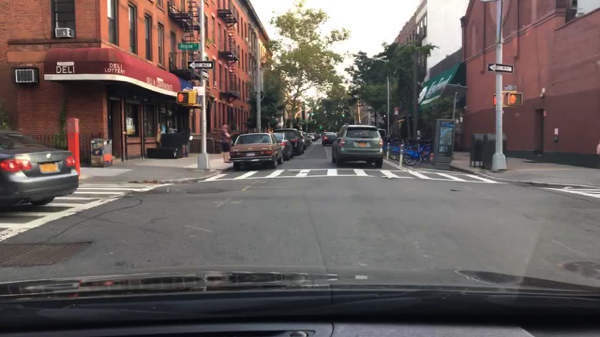bike: (405, 140, 438, 166), (396, 140, 426, 163), (385, 138, 408, 160)
car: (0, 130, 79, 209), (332, 123, 385, 169), (230, 132, 283, 171), (273, 128, 306, 156), (264, 132, 294, 160), (323, 132, 336, 146), (299, 132, 308, 150), (321, 131, 333, 143), (304, 132, 312, 147), (309, 132, 318, 141), (307, 134, 316, 142)
person: (220, 121, 231, 165), (415, 128, 423, 140)
traffic light: (177, 90, 198, 104), (508, 92, 522, 106), (492, 94, 498, 107), (342, 110, 345, 117)
traffic sign: (486, 63, 515, 74), (186, 60, 213, 69), (177, 44, 198, 51)
